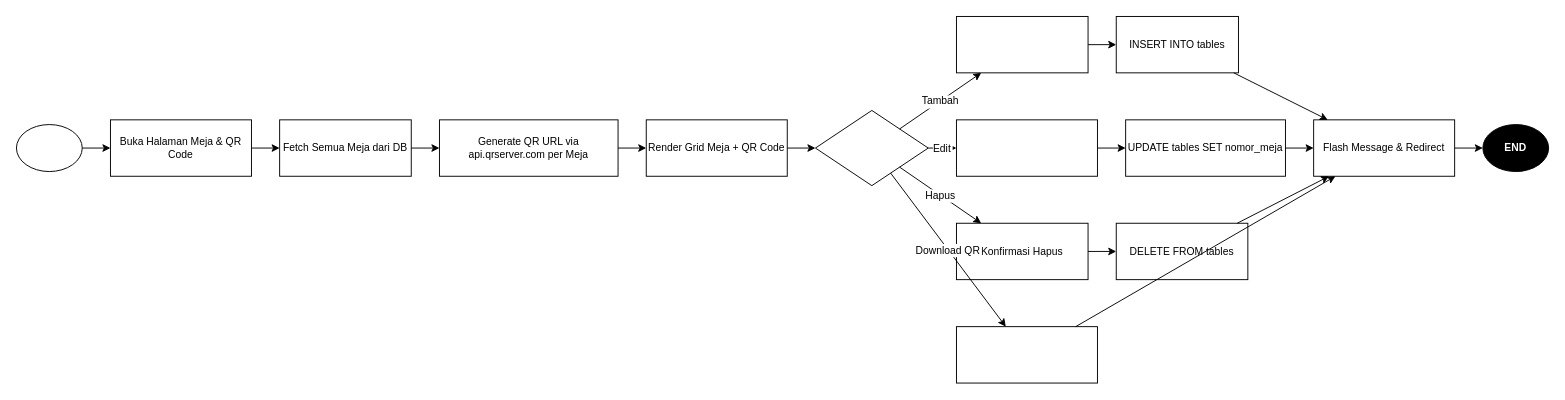
The diagram is 1565 pixels wide and 400 high, and some of its shapes have lost their labels. The shapes that lost their labels are listed below. From the top down, each one's box as (x1, y1, x2, y2) in pixels, then its label:
(956, 16, 1088, 73): Input Nomor Meja Baru
(16, 124, 82, 172): START
(815, 110, 928, 186): Pilih Aksi?
(956, 119, 1097, 176): Load Data & Edit Nomor Meja
(956, 326, 1097, 383): Download QR PNG via Browser
